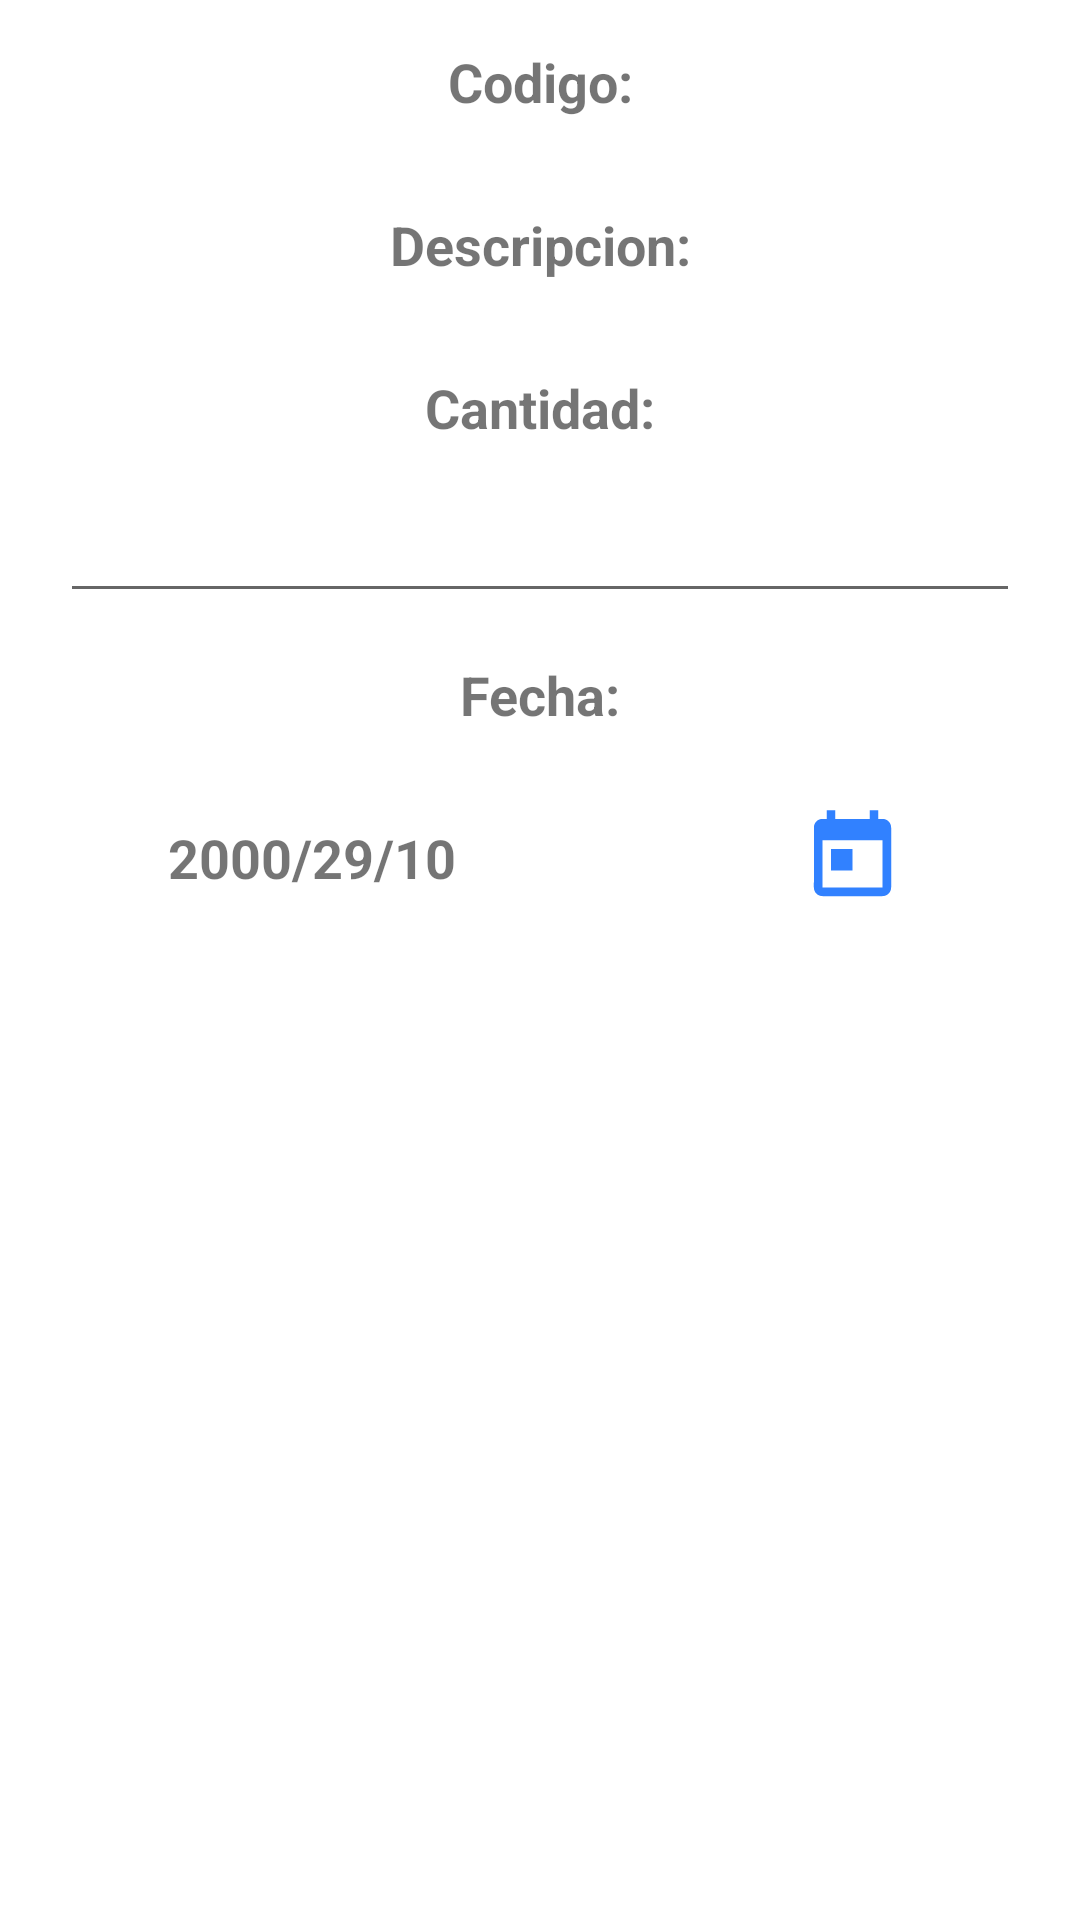

Where to tap for icons on this 1080w x 1920h app screen, as (x=x, y=y):
today: (x=852, y=853)
